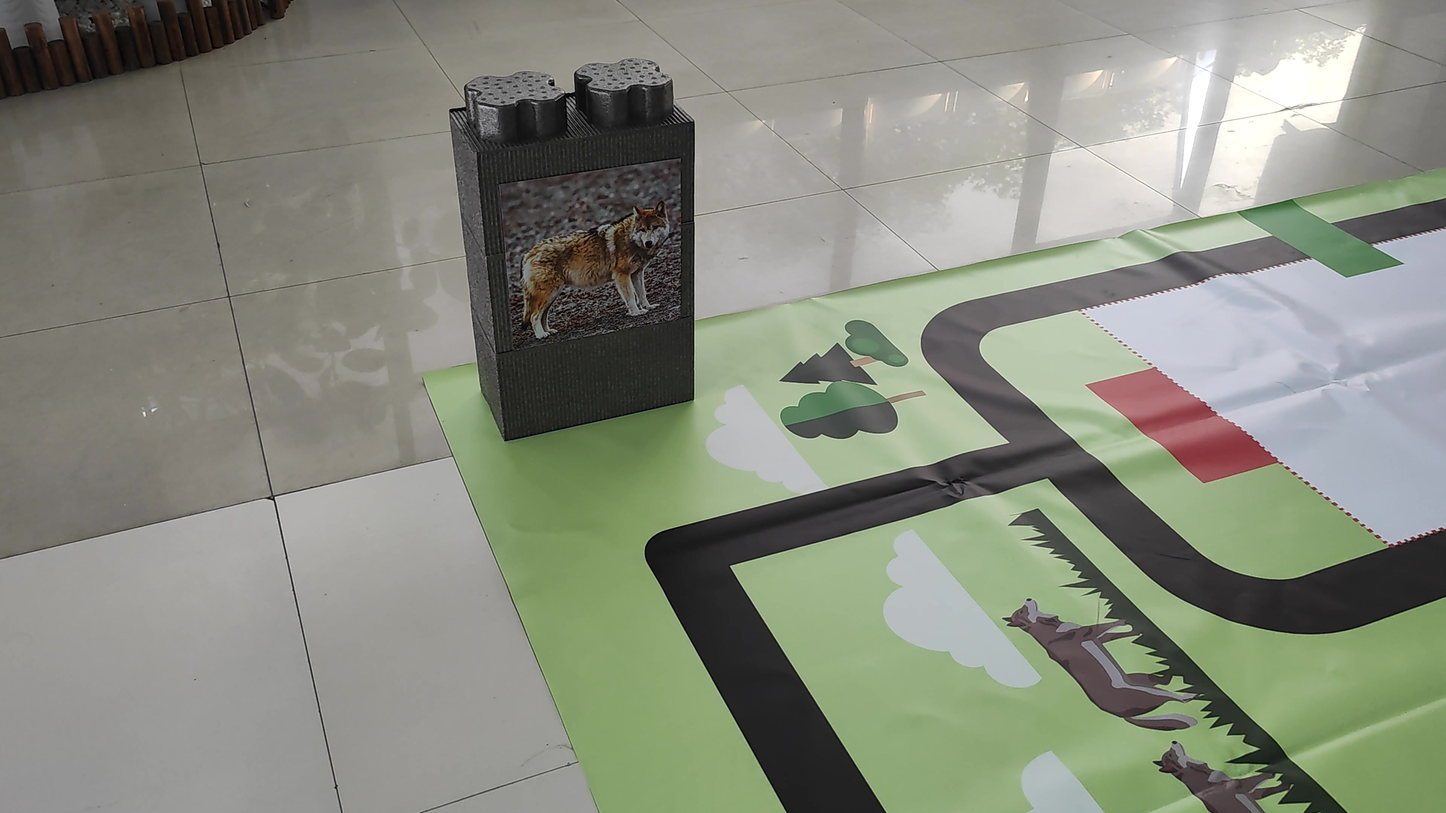wolf: (505, 184, 674, 332)
